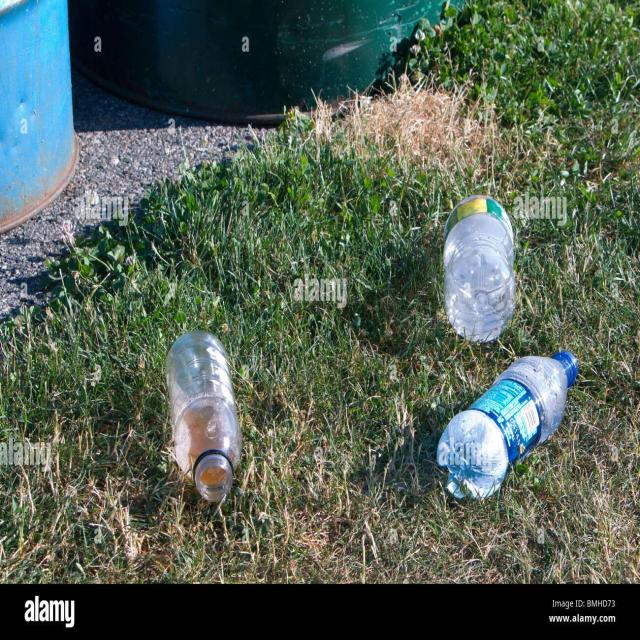bottle: (426, 346, 590, 534), (140, 273, 252, 545), (451, 175, 507, 348)
